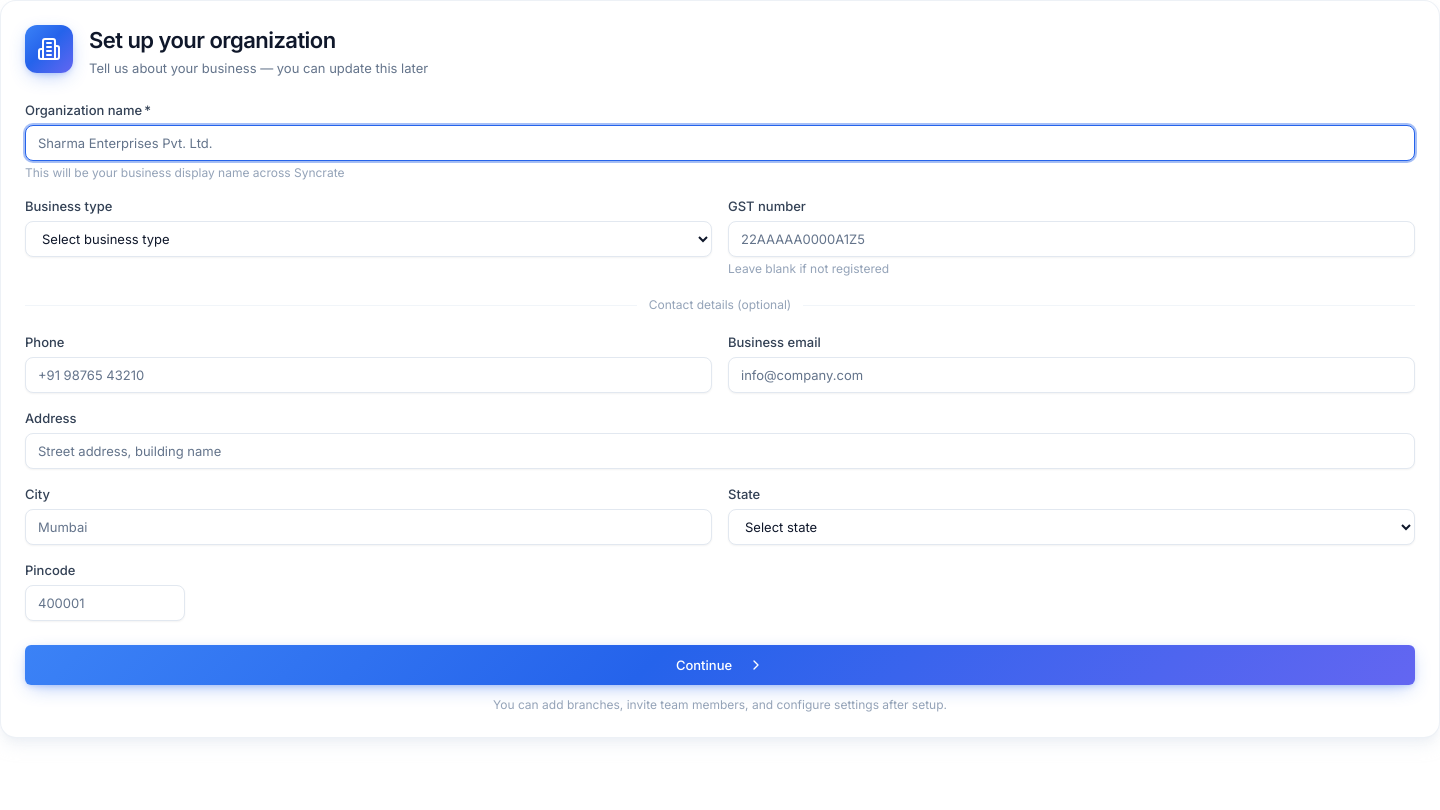
Scenario: CreateOrganizationForm › shows a validation error for an invalid GST number
Type "Sharma Enterprises" into the field labelled "Organization name*" at (720, 143), box [25, 125, 1415, 161]
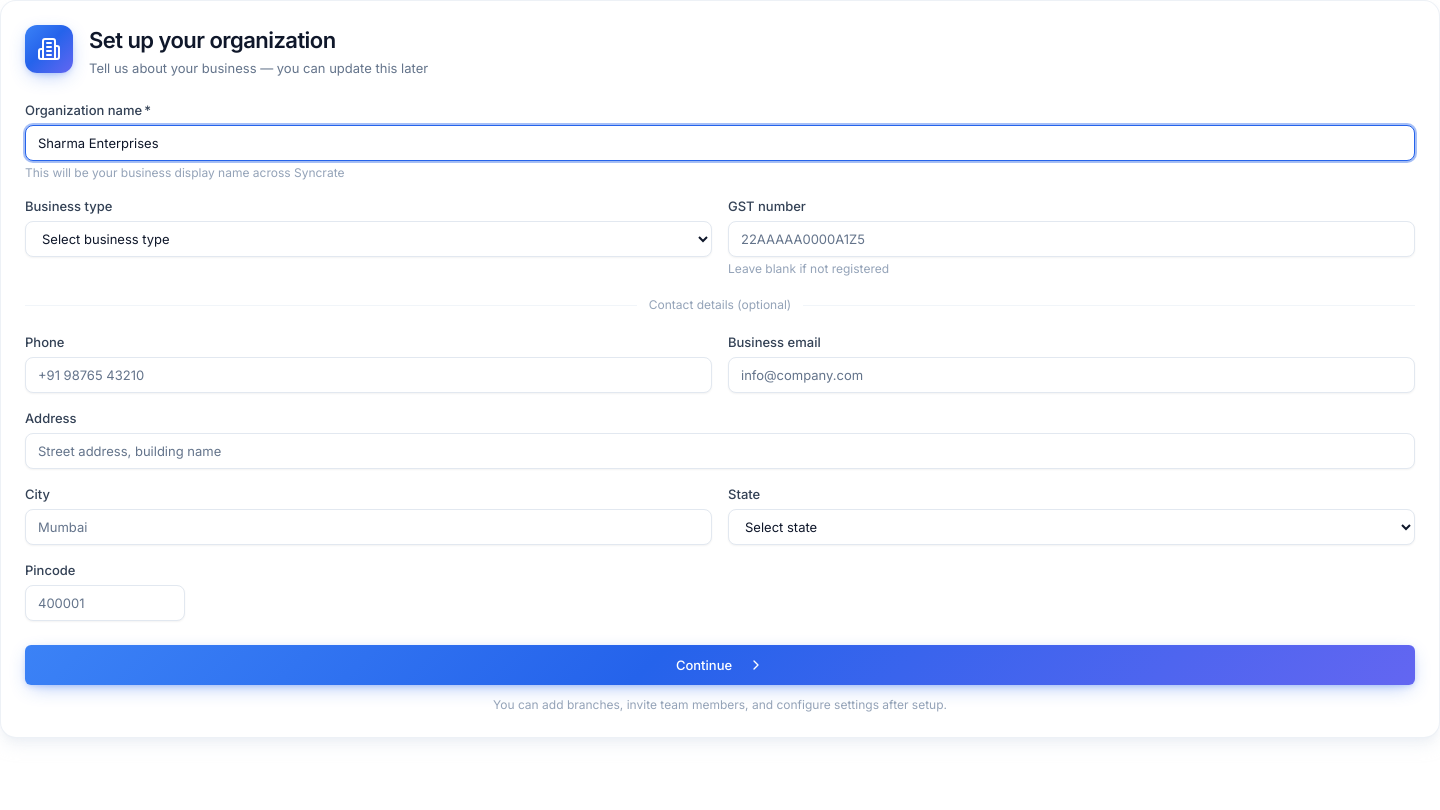
Type "INVALID" into the field labelled "GST number" at (1072, 239), box [728, 221, 1415, 257]
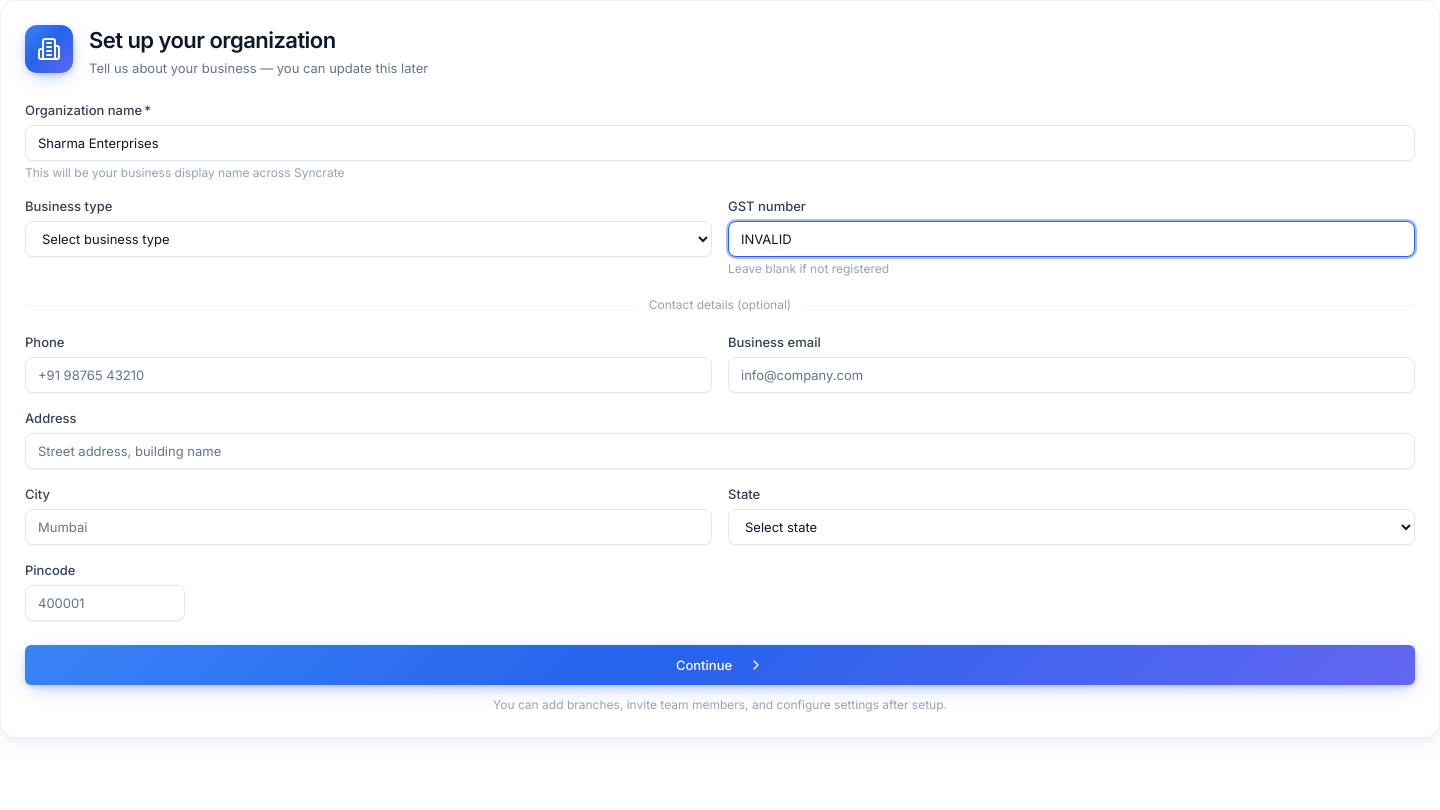
Click the button "Continue" at (720, 665), box [25, 645, 1415, 685]
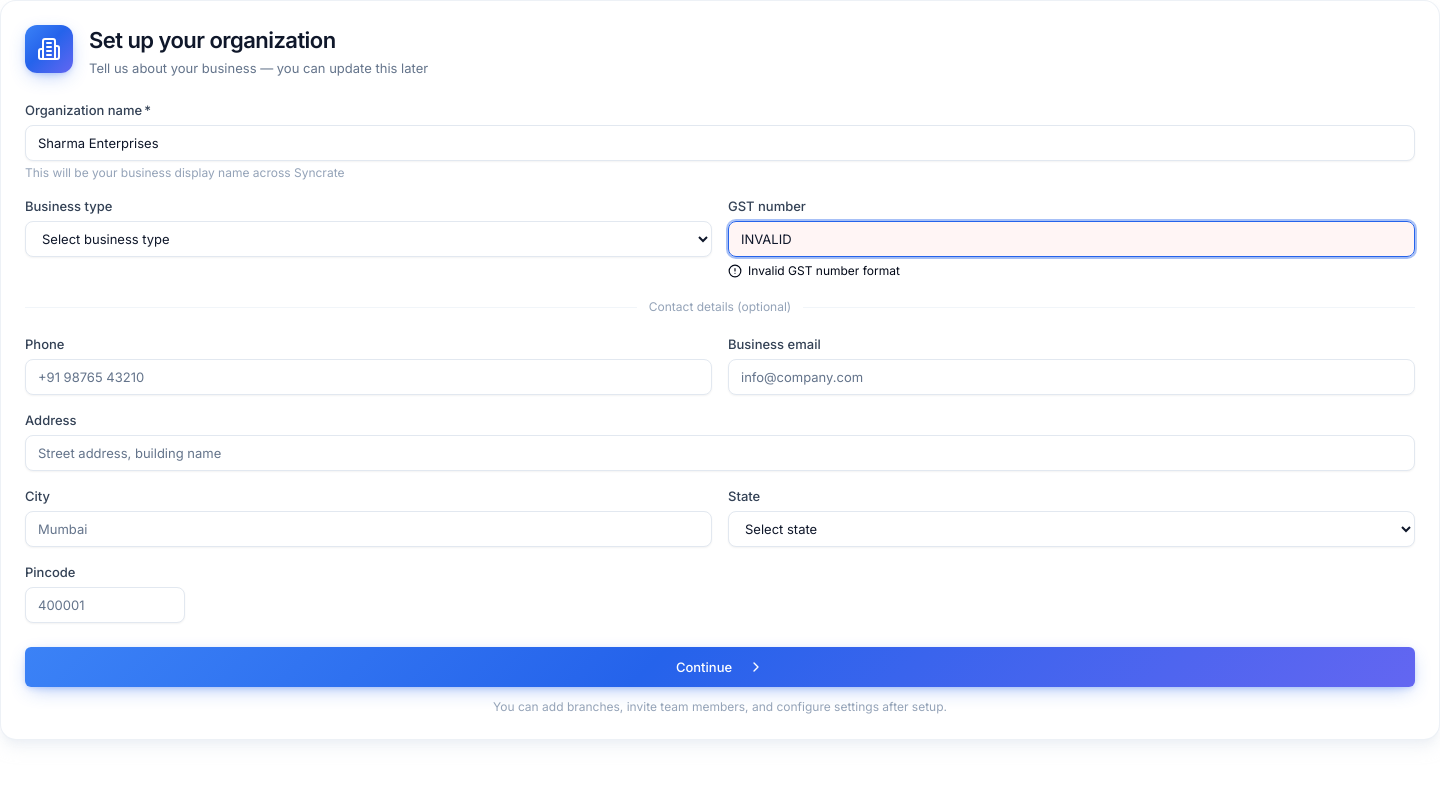
Now the text "Invalid GST number format" is shown, box [728, 263, 900, 278]
